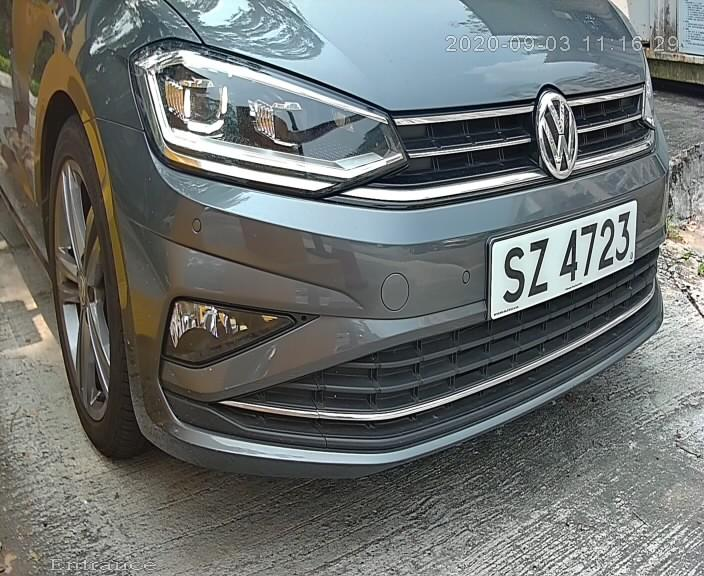Car: (26, 6, 692, 505)
License Plate: (481, 199, 639, 325)
